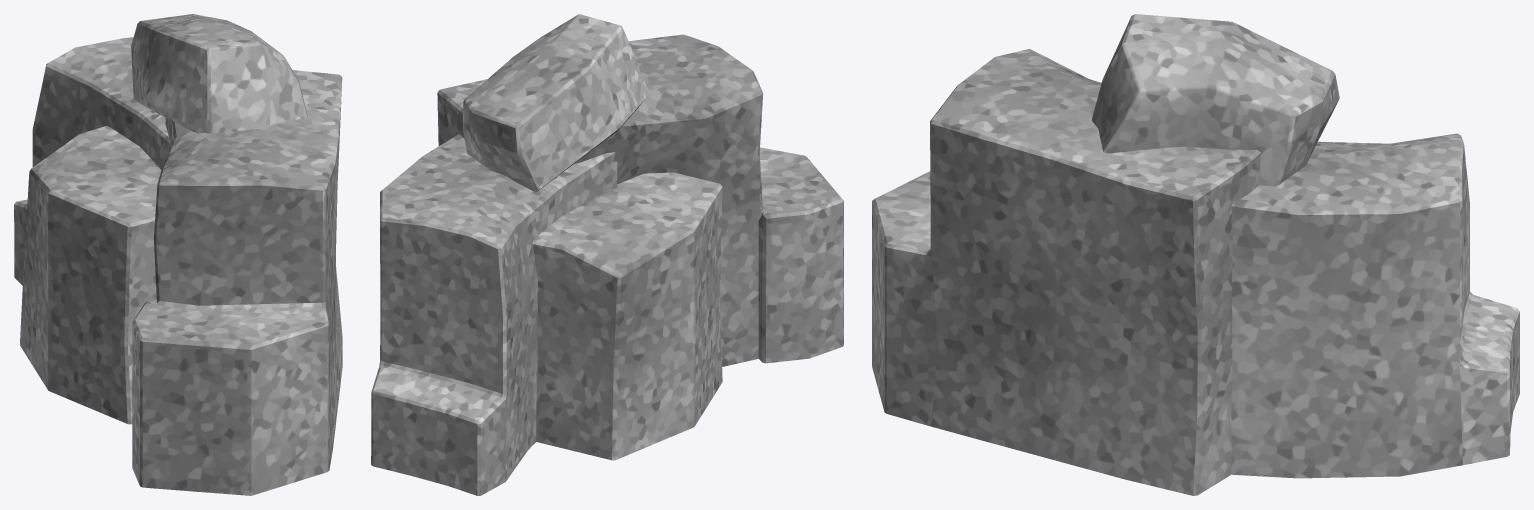
Rendered from gake2.fbx.
3 views of the same model, side by side, from view 1: azimuth 30°, elevation 25°; view 2: azimuth 150°, elevation 25°; view 3: azimuth 270°, elevation 25° (orthographic). The views are drawn at different scales.
Parts seen in each view (by area): view 1: polySurface2; view 2: polySurface2; view 3: polySurface2.
Part boxes in pixels (<box>): polySurface2: <box>14,14,342,495</box>; polySurface2: <box>371,14,843,495</box>; polySurface2: <box>872,14,1519,495</box>.
Size of the model in its own units: 24.27 by 26.24 by 39.1.
